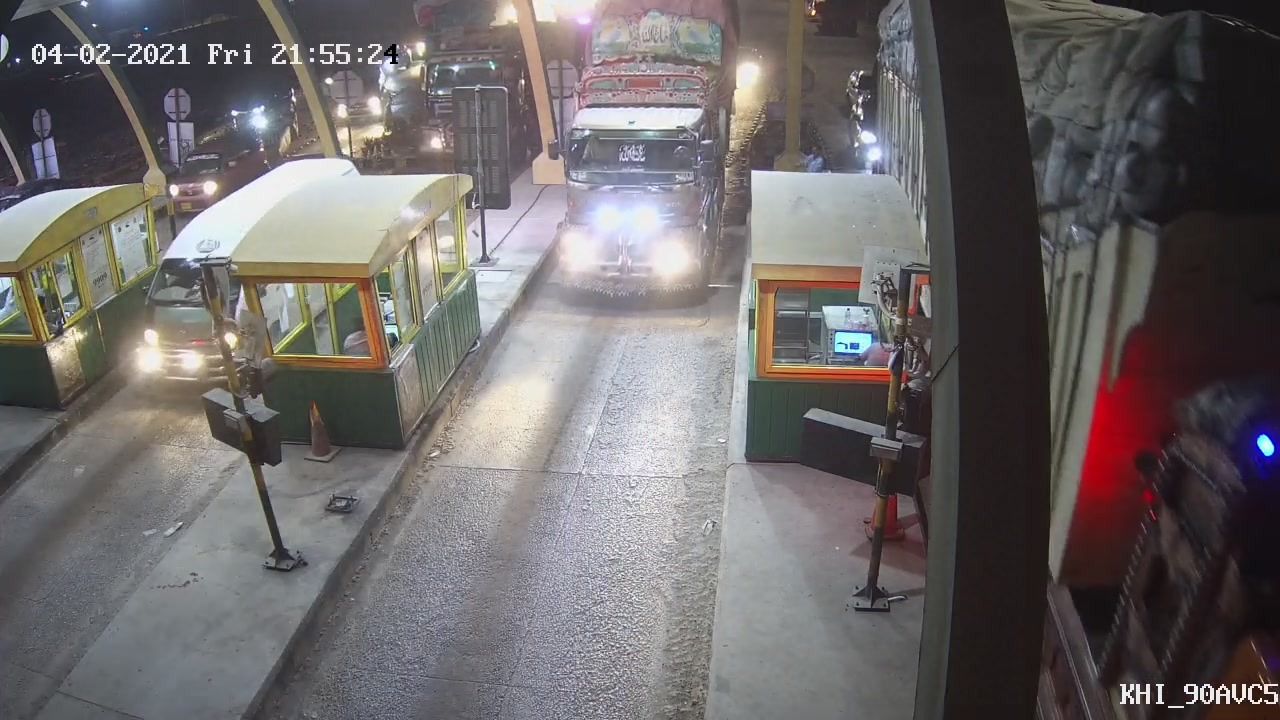F5: (539, 4, 750, 298)
